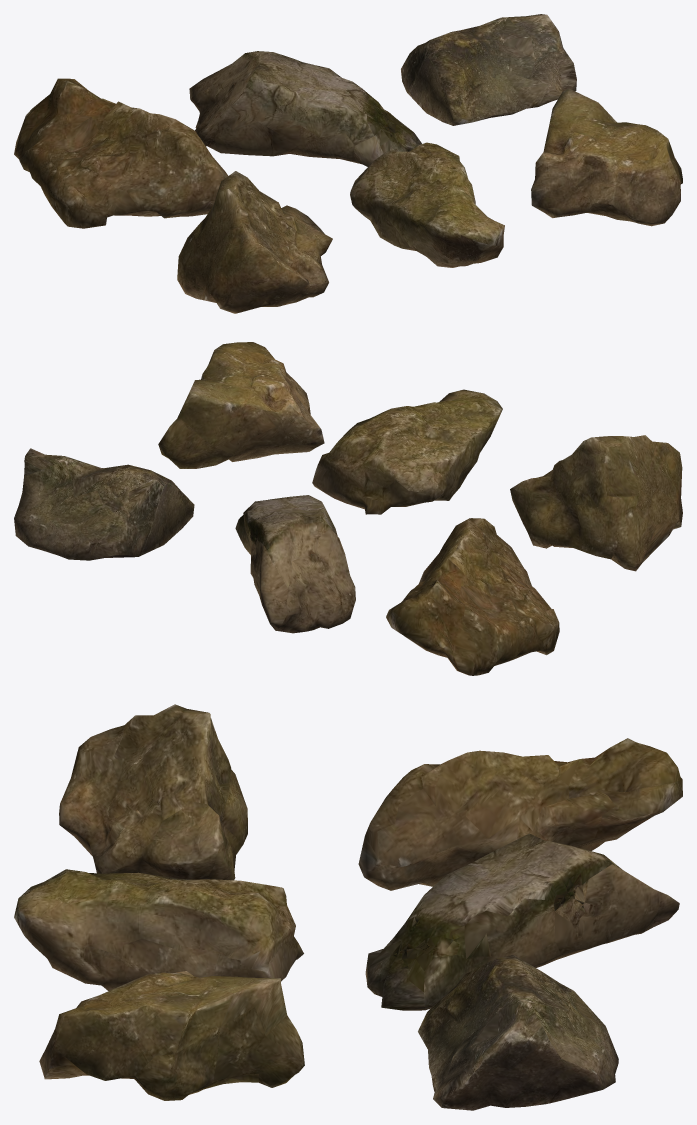
The model's file is rock_moss_set_01.fbx.
3 renders of one model, top to bottom at view 1: azimuth 30°, elevation 25°; view 2: azimuth 150°, elevation 25°; view 3: azimuth 270°, elevation 25°, orthographic. The views are drawn at different scales.
Visible parts, largest first — view 1: rock_moss_set_01_LOD0; view 2: rock_moss_set_01_LOD0; view 3: rock_moss_set_01_LOD0.
Boxes of the visible parts, bbox=[...] form: rock_moss_set_01_LOD0: bbox=[14, 14, 682, 313]; rock_moss_set_01_LOD0: bbox=[14, 342, 682, 675]; rock_moss_set_01_LOD0: bbox=[14, 704, 682, 1110].
Size of what is drawn, in the model's own units: 802 by 177 by 693.
1 material, 1 textured.
